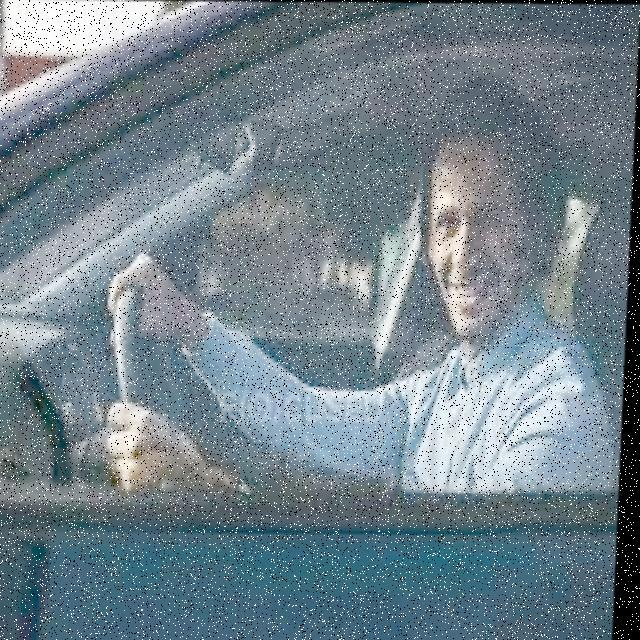noSeatbelt: (372, 284, 628, 491)
